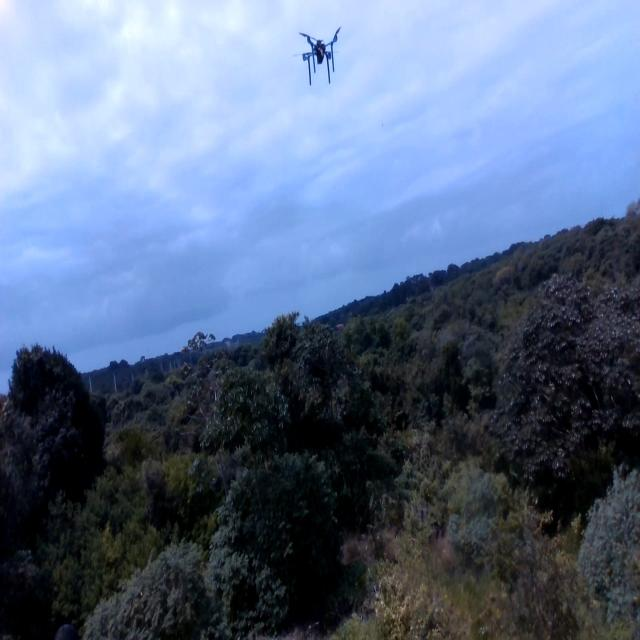-uav-: (289, 18, 354, 87)
